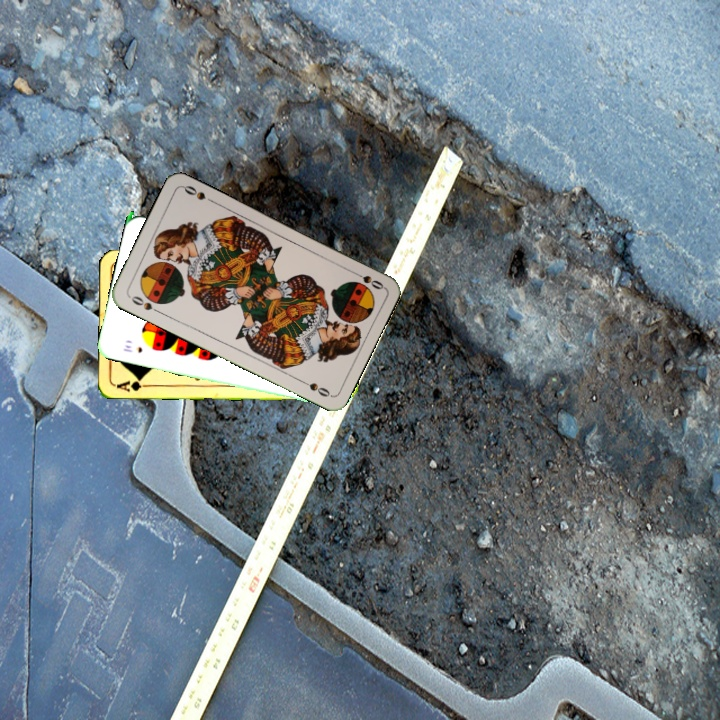GA: (113, 374, 153, 394)
S10: (119, 341, 145, 356)
SO: (348, 266, 386, 292), (127, 292, 163, 316)
